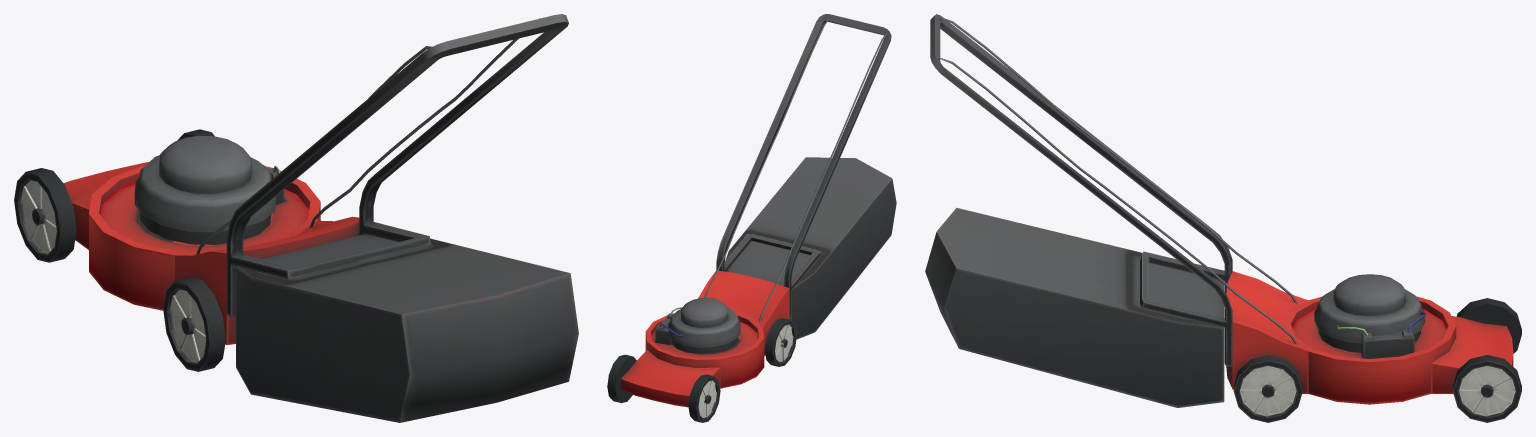
Rendered from lawn-mower.glb.
3 views of the same model, side by side, from view 1: azimuth 30°, elevation 25°; view 2: azimuth 150°, elevation 25°; view 3: azimuth 270°, elevation 25° (orthographic). The views are drawn at different scales.
Parts seen in each view (by area): view 1: Bag, Blade_LawnMover_0, Engine; view 2: Blade_LawnMover_0, Bag, Engine; view 3: Bag, Blade_LawnMover_0, Engine.
Boxes of the visible parts, x1,y1,x2,y2 form: Bag: [236, 233, 578, 422]; Blade_LawnMover_0: [14, 14, 568, 371]; Engine: [134, 135, 284, 244]; Blade_LawnMover_0: [607, 14, 891, 422]; Bag: [725, 157, 896, 339]; Engine: [655, 297, 740, 353]; Bag: [925, 207, 1224, 407]; Blade_LawnMover_0: [930, 14, 1521, 422]; Engine: [1314, 274, 1426, 358].
Bounding box in the file's own units: 134 × 308 × 467.
1 material, 1 textured.
